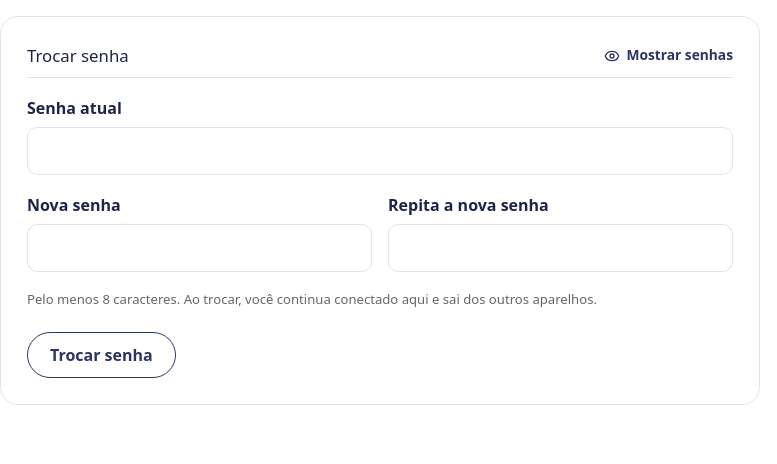
Test: trocar senha na Minha conta › avisa quando a senha atual está errada
Type "Errada123" into the password field labelled "Senha atual" at (380, 151), box top-left (27, 127), bottom-right (733, 175)
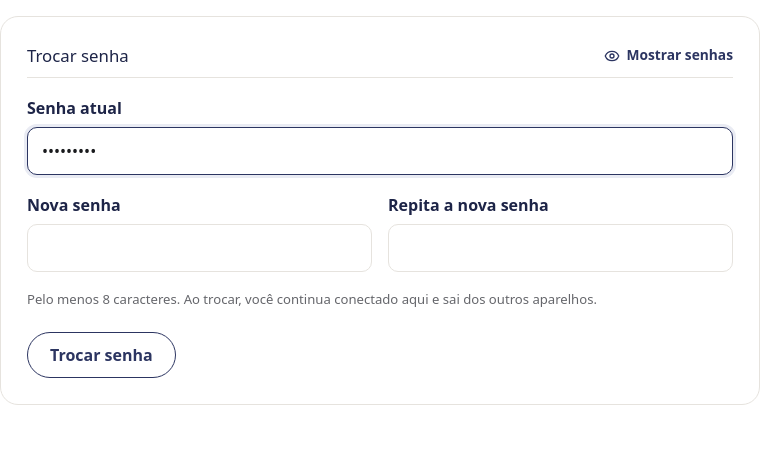
Type "NovaSenha2026" into the password field labelled "Nova senha" at (200, 248), box top-left (27, 224), bottom-right (372, 272)
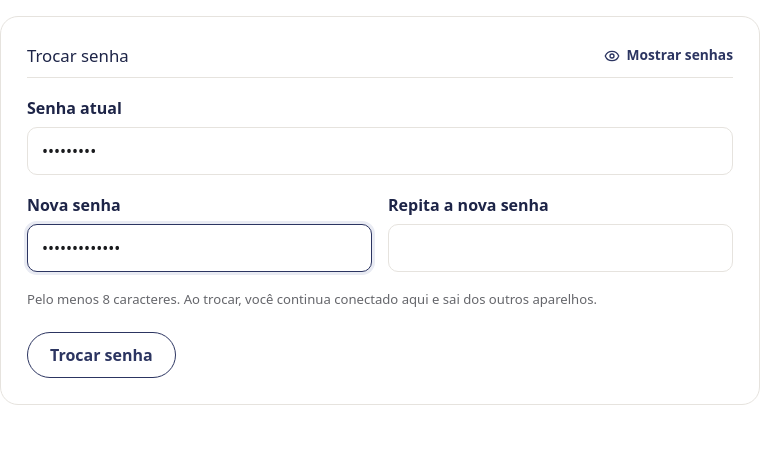
Type "NovaSenha2026" into the password field labelled "Repita a nova senha" at (560, 248), box top-left (388, 224), bottom-right (733, 272)
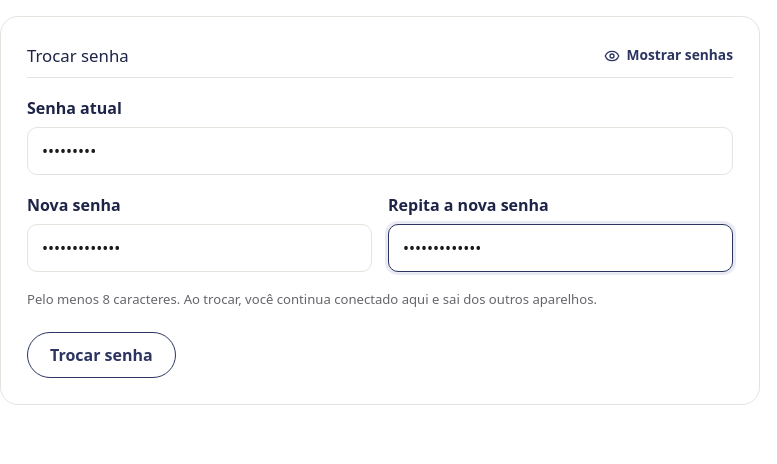
Click the button "Trocar senha" at (101, 355), box top-left (27, 332), bottom-right (176, 378)
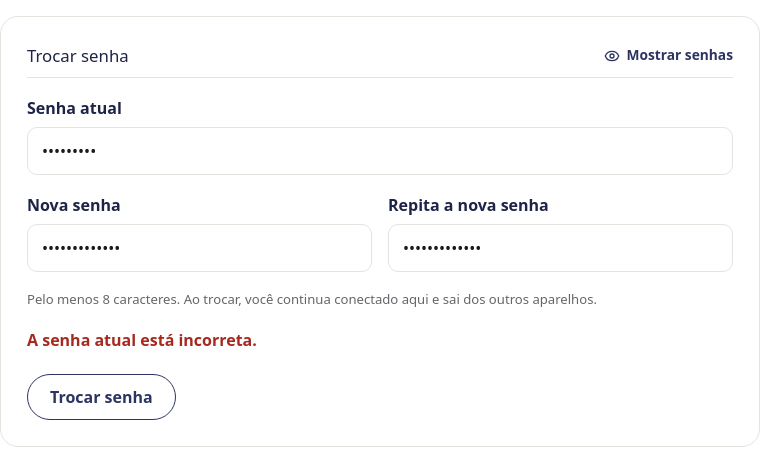
Expected: the message reads "A senha atual está incorreta.", top-left (27, 329), bottom-right (257, 351)
